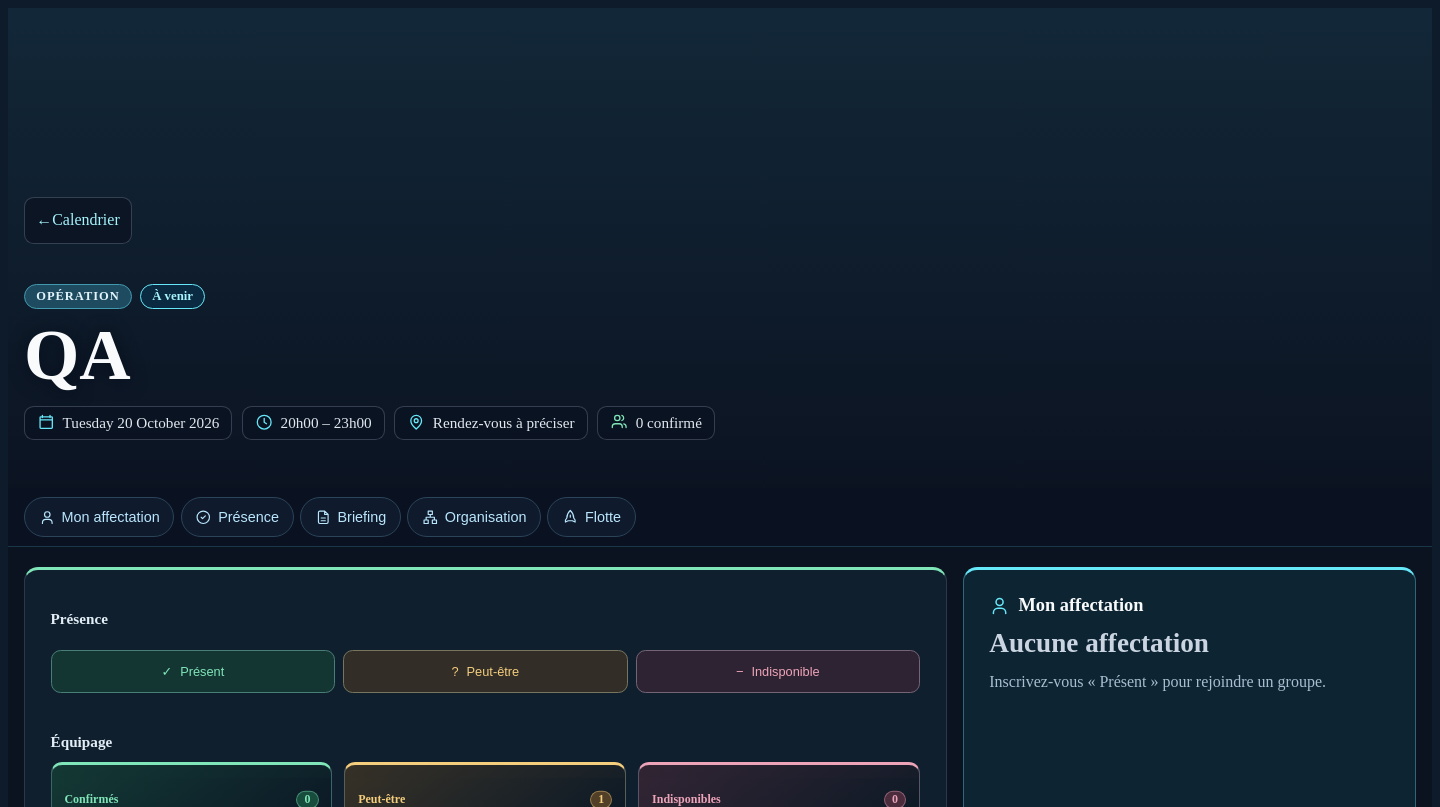
Test: OperationPageComponent › reads counters, lists and the active button back from the server after each answer
Check: the element with class "hero__present" reads "0 confirmé", box [636,414,702,431]
What coordinates should you click on to do the following:
click the button "✓ Présent"
I would click on:
 (193, 671)
Its box is [51,650,335,693].
(page scrolled)
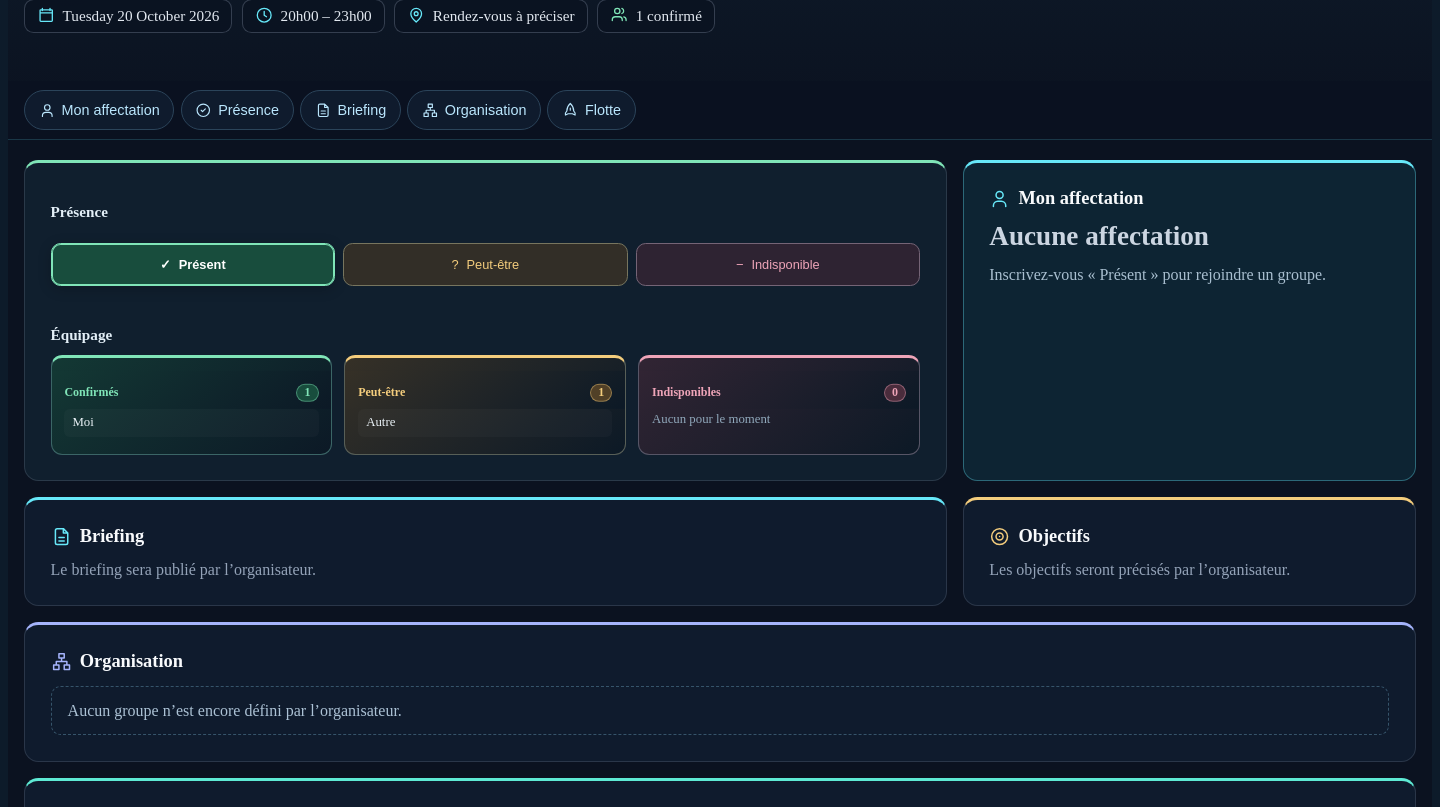
Check: the element with class "hero__present" reads "1 confirmé", box [636,7,702,24]
Check: the heading "Confirmés 1" is shown, box [52,370,331,408]
Check: the element with class "status-confirmed" shows "Moi", box [72,416,94,430]
